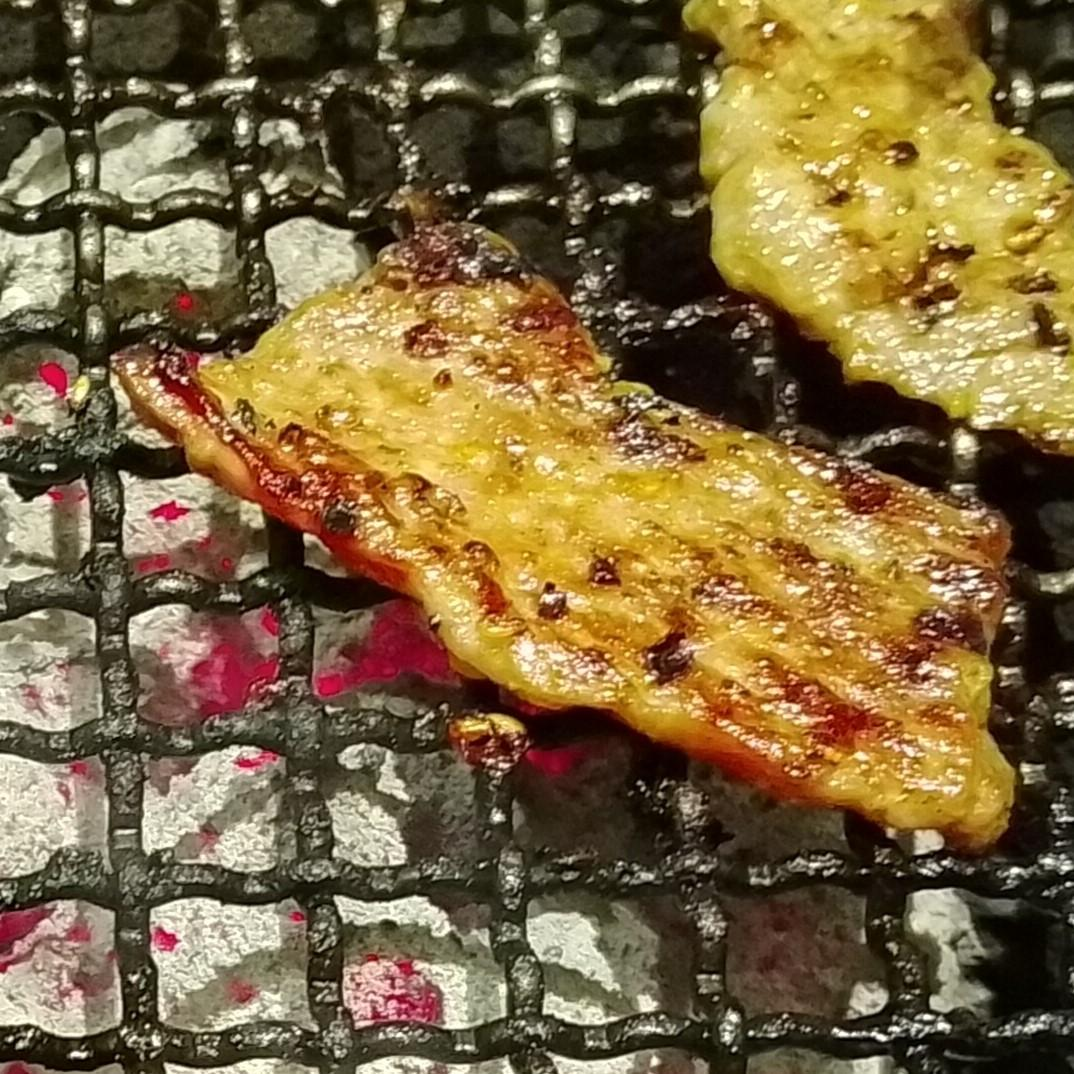Overcooked: (110, 216, 1019, 857)
Well-Cooked: (700, 31, 1073, 443)
